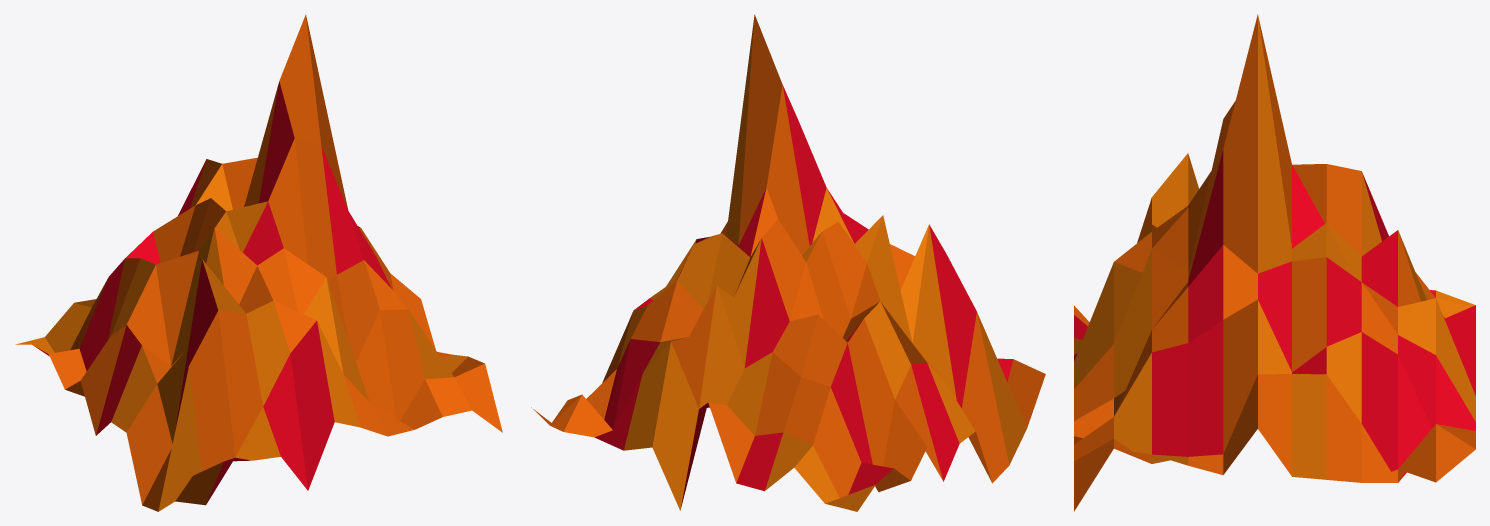
The model's file is mountain1.fbx.
3 renders of one model, left to right at view 1: azimuth 30°, elevation 25°; view 2: azimuth 150°, elevation 25°; view 3: azimuth 270°, elevation 25°, orthographic. The views are drawn at different scales.
Parts seen in each view (by area): view 1: Plane.001; view 2: Plane.001; view 3: Plane.001.
Boxes of the visible parts, x1,y1,x2,y2 form: Plane.001: [15, 14, 502, 511]; Plane.001: [531, 14, 1045, 511]; Plane.001: [1074, 14, 1475, 511].
Size of the model in its own units: 1000 by 1299 by 1000.
